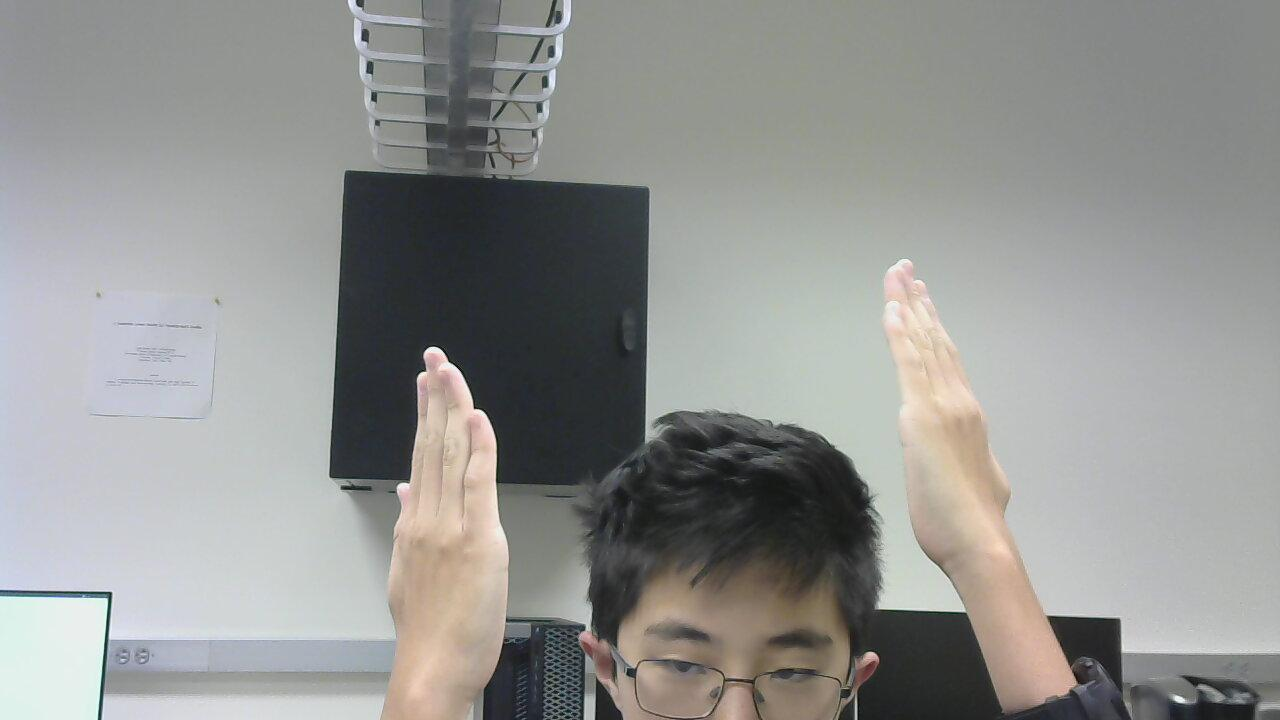hands: (379, 341, 520, 702), (872, 259, 1028, 570)
